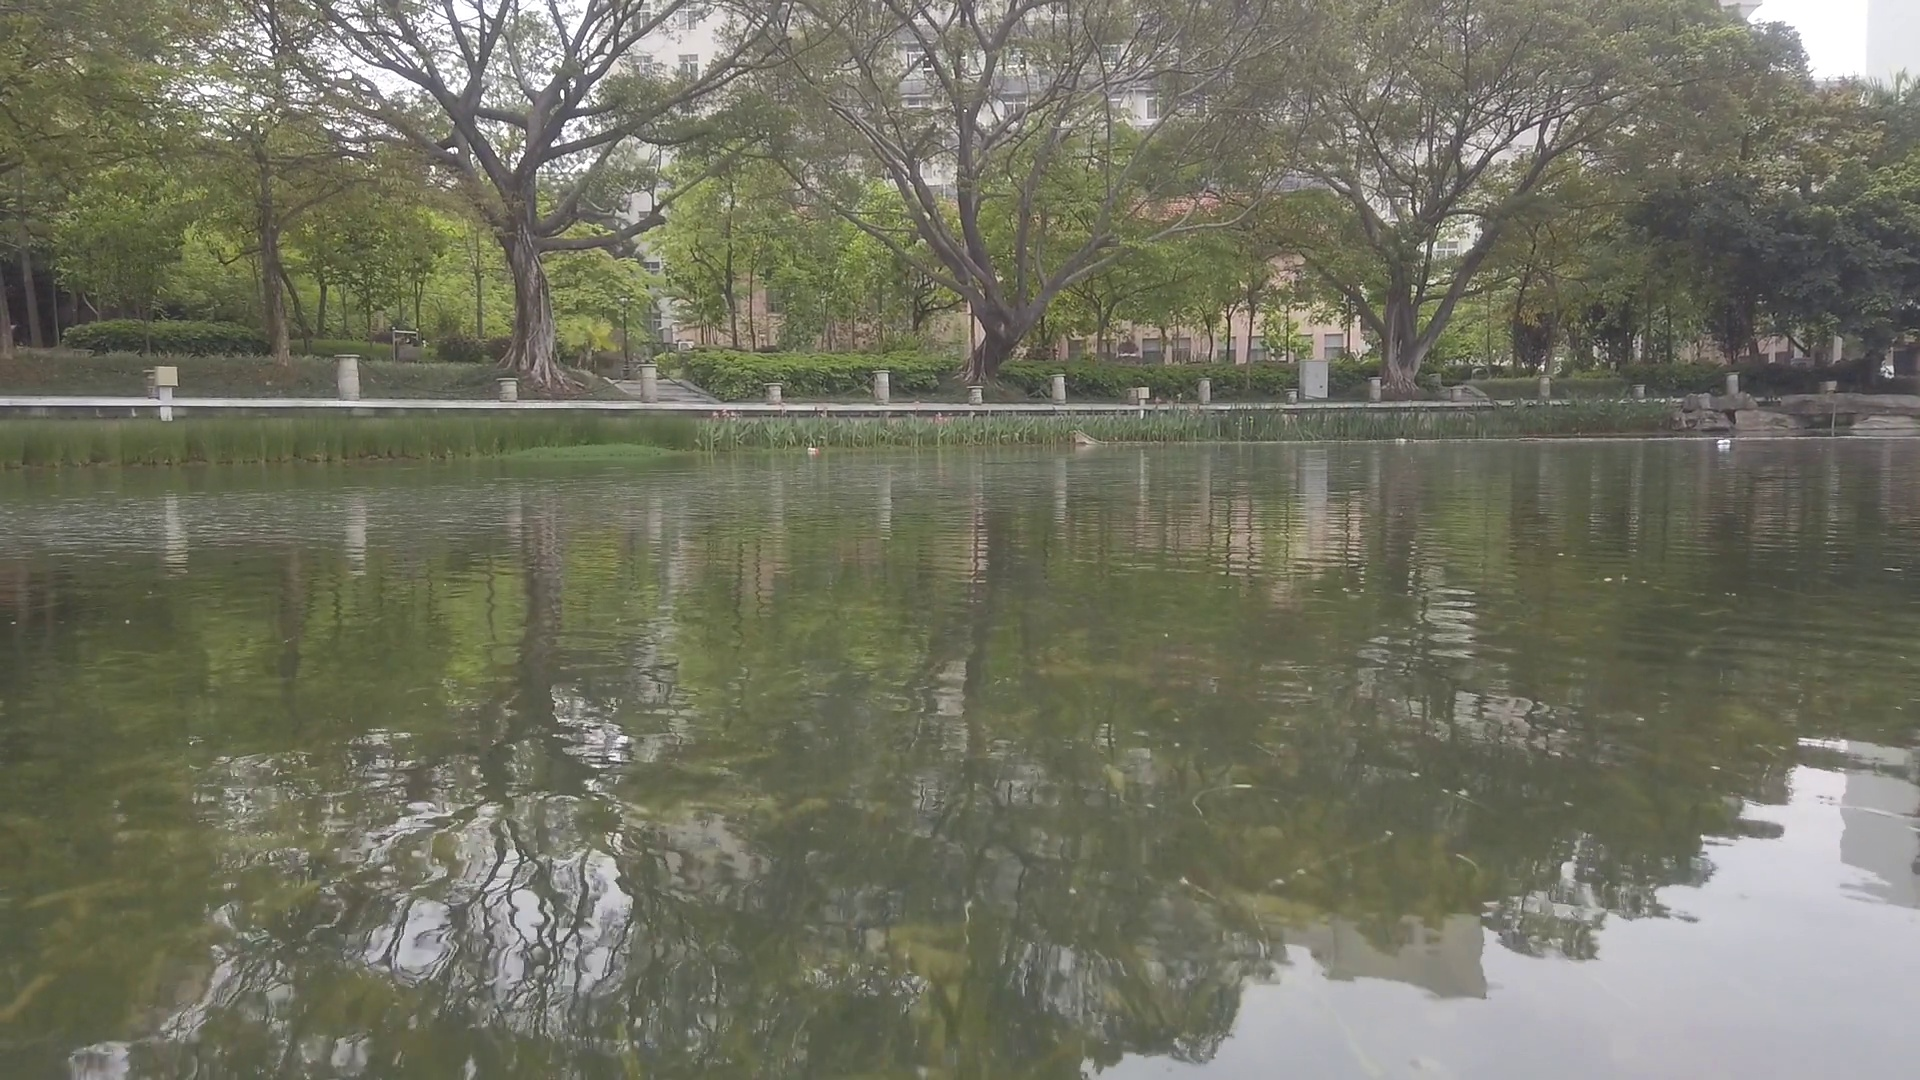bottle: (1395, 436, 1408, 444), (1717, 438, 1731, 444), (807, 448, 820, 452)
